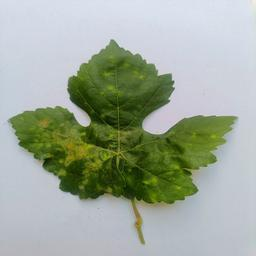Powdery-Mildew: (93, 126, 136, 168), (57, 133, 90, 165), (35, 117, 53, 149), (145, 177, 162, 193), (103, 80, 119, 96), (160, 151, 176, 167), (188, 146, 204, 162)
